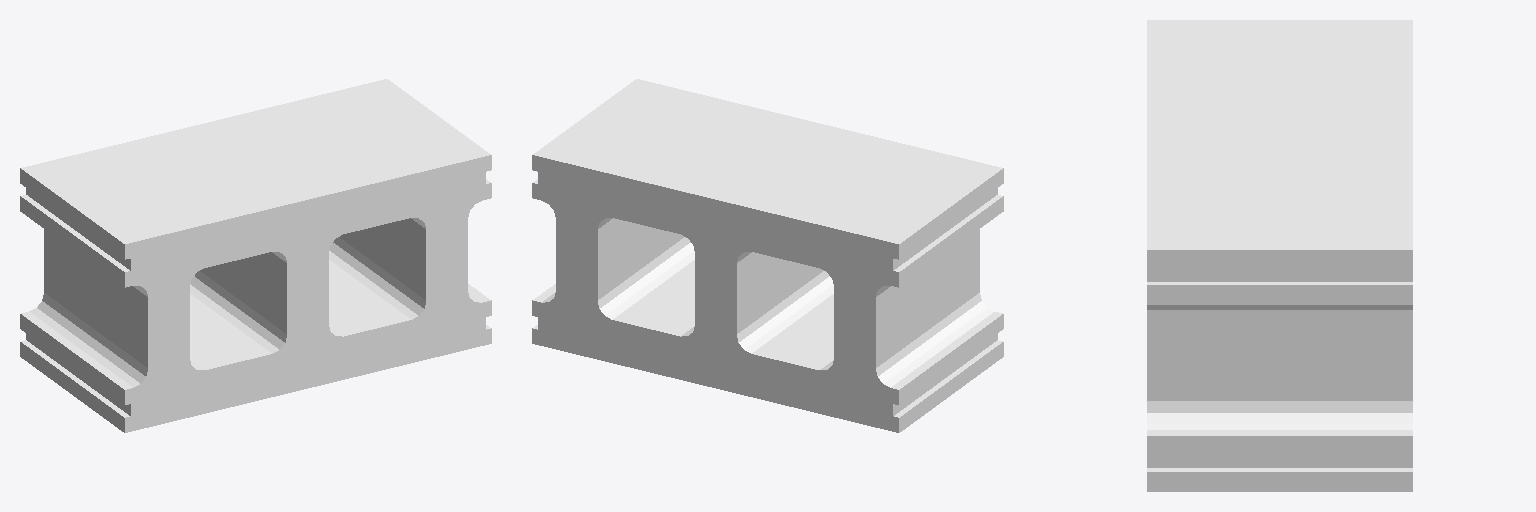
robot.urdf — brick:
<?xml version="1.0" encoding="utf-8"?>
<!-- This URDF was automatically created by SolidWorks to URDF Exporter! Originally created by [author] ([email redacted]) 
     Commit Version: 1.6.0-4-g7f85cfe  Build Version: 1.6.7995.38578
     For more information, please see http://wiki.ros.org/sw_urdf_exporter -->
<robot
  name="brick">

  <link name="world"/>
  <joint name="brick_to_world" type="floating">
    <parent link="world"/>
    <child link="brick"/>
    <origin xyz="-2 -2 3" rpy="0 0 0"/>
  </joint>

  <link
    name="brick">
    <inertial>
      <origin
        xyz="-0.0504931185552664 -0.0121385028318173 0.034891250158239"
        rpy="0 0 0" />
      <mass
        value="9.7387642147252" />
      <inertia
        ixx="0.0725479577844421"
        ixy="1.25978871431953E-18"
        ixz="-4.64563709722529E-18"
        iyy="0.160778029346143"
        iyz="2.43383024833014E-18"
        izz="0.17244247038477" />
    </inertial>
    <visual>
      <origin
        xyz="0 0 0"
        rpy="0 0 0" />
      <geometry>
        <mesh
          filename="package://environment/meshes/brick/brick.STL" />
      </geometry>
      <material
        name="">
        <color
          rgba="1 1 1 1" />
      </material>
    </visual>
    <collision>
      <origin
        xyz="0 0 0"
        rpy="0 0 0" />
      <geometry>
        <mesh
          filename="package://environment/meshes/brick/brick.STL" />
      </geometry>
    </collision>
  </link>
  <gazebo>
    <plugin name="gazebo_ros_control" filename="libgazebo_ros_control.so">
      <robotNamespace>/brick</robotNamespace> 
    </plugin>

    <plugin name="gazebo_ros_p3d" filename="libgazebo_ros_p3d.so">
      <robotNamespace>/brick</robotNamespace>
      <bodyName>brick</bodyName>
      <frameName>world</frameName>
      <updateRate>50.0</updateRate>
      <topicName>/brick/tf</topicName> 
    </plugin>
  </gazebo>

</robot>

--- Render facts (derived) ---
The picture shows the robot from 3 angles, left to right: view 1: azimuth 30°, elevation 25°; view 2: azimuth 150°, elevation 25°; view 3: azimuth 270°, elevation 25°; orthographic projection.
Model brick with 2 links and 1 joints (1 floating), rooted at world, posed all joints at 0.
Links seen in each view (by area): view 1: brick; view 2: brick; view 3: brick.
Link boxes in pixels (x1=…): brick: x1=20, y1=79, x2=491, y2=432; brick: x1=532, y1=79, x2=1003, y2=432; brick: x1=1147, y1=20, x2=1412, y2=491.
Bounding box of the posed robot: 0.3937 × 0.1937 × 0.1937 m (x, y, z).
1 mesh visuals loaded from 1 distinct referenced files (1 binary STL).